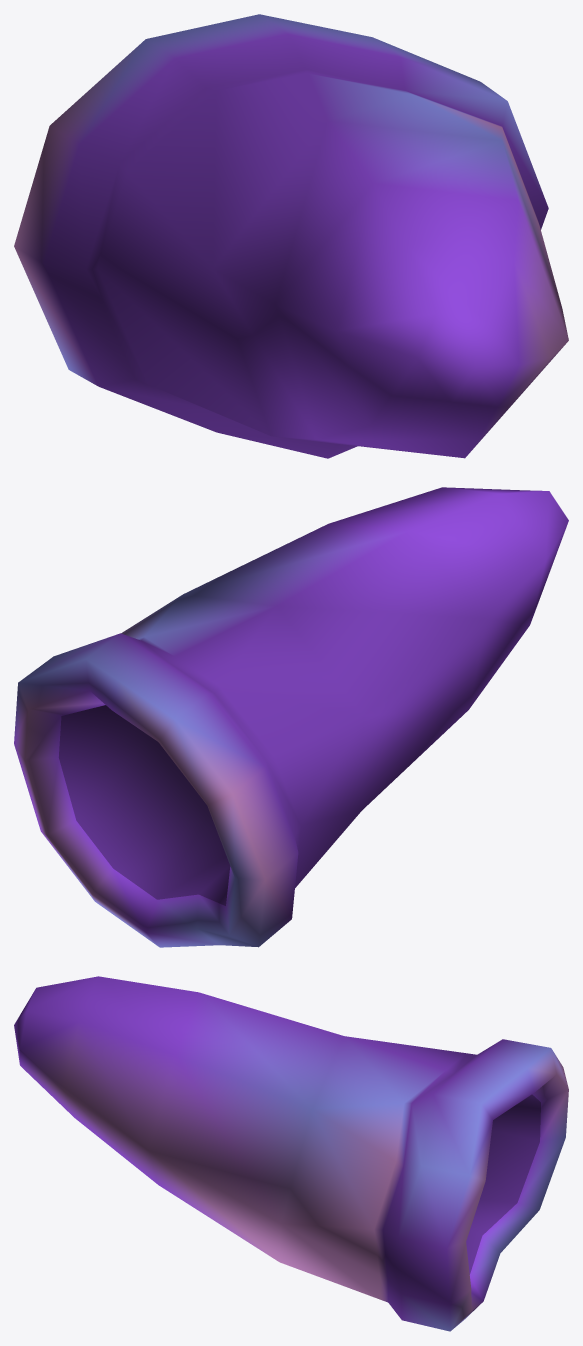
The model's file is CoralPipeAPurple.fbx.
The picture shows the model from 3 angles, top to bottom: view 1: azimuth 30°, elevation 25°; view 2: azimuth 150°, elevation 25°; view 3: azimuth 270°, elevation 25°; orthographic projection. The views are drawn at different scales.
Visible parts, largest first — view 1: CoralPipeAPurple; view 2: CoralPipeAPurple; view 3: CoralPipeAPurple.
Boxes of the visible parts, x1,y1,x2,y2 form: CoralPipeAPurple: (14,14,568,458); CoralPipeAPurple: (14,487,568,947); CoralPipeAPurple: (14,976,568,1331).
Size of the model in its own units: 42 by 39.71 by 69.22.
